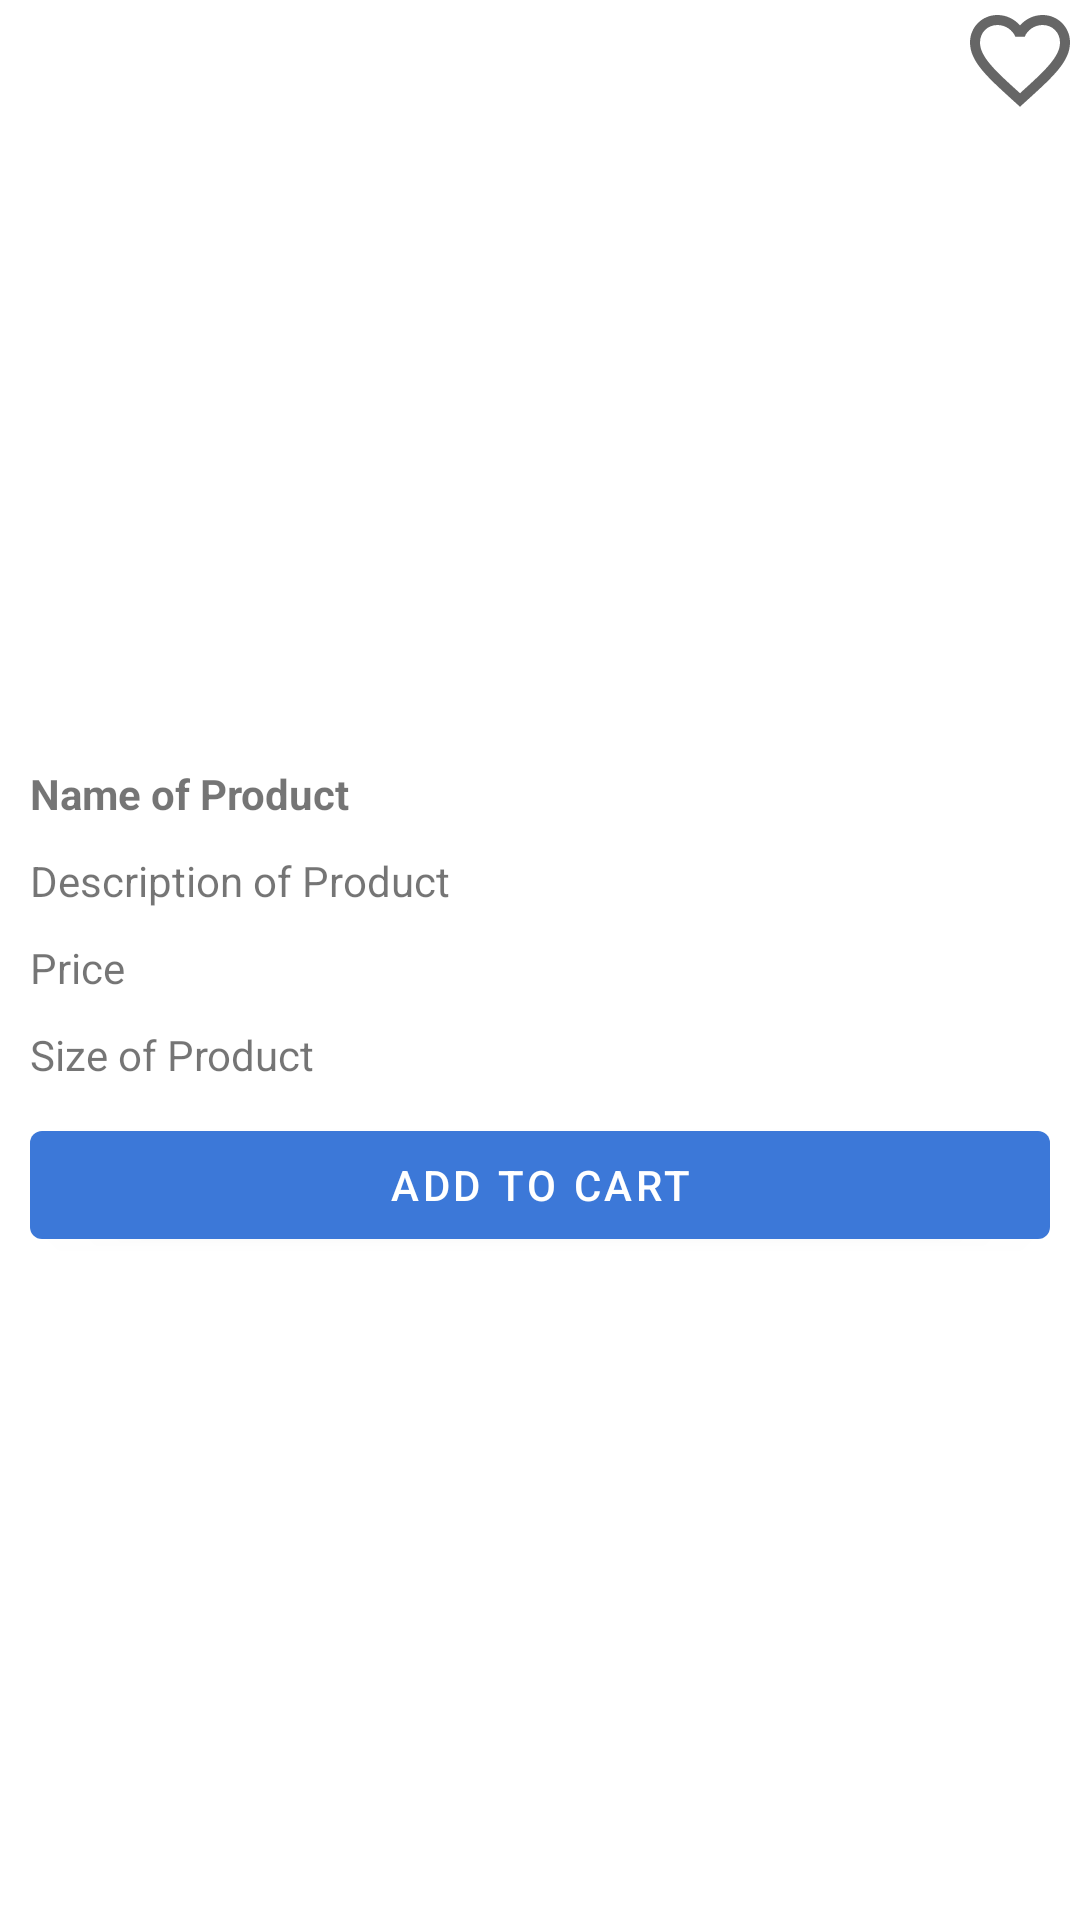

Point at icon controls on the screen. Image size 1080*1920, points as (x,y).
favorite border: (1020,61)
